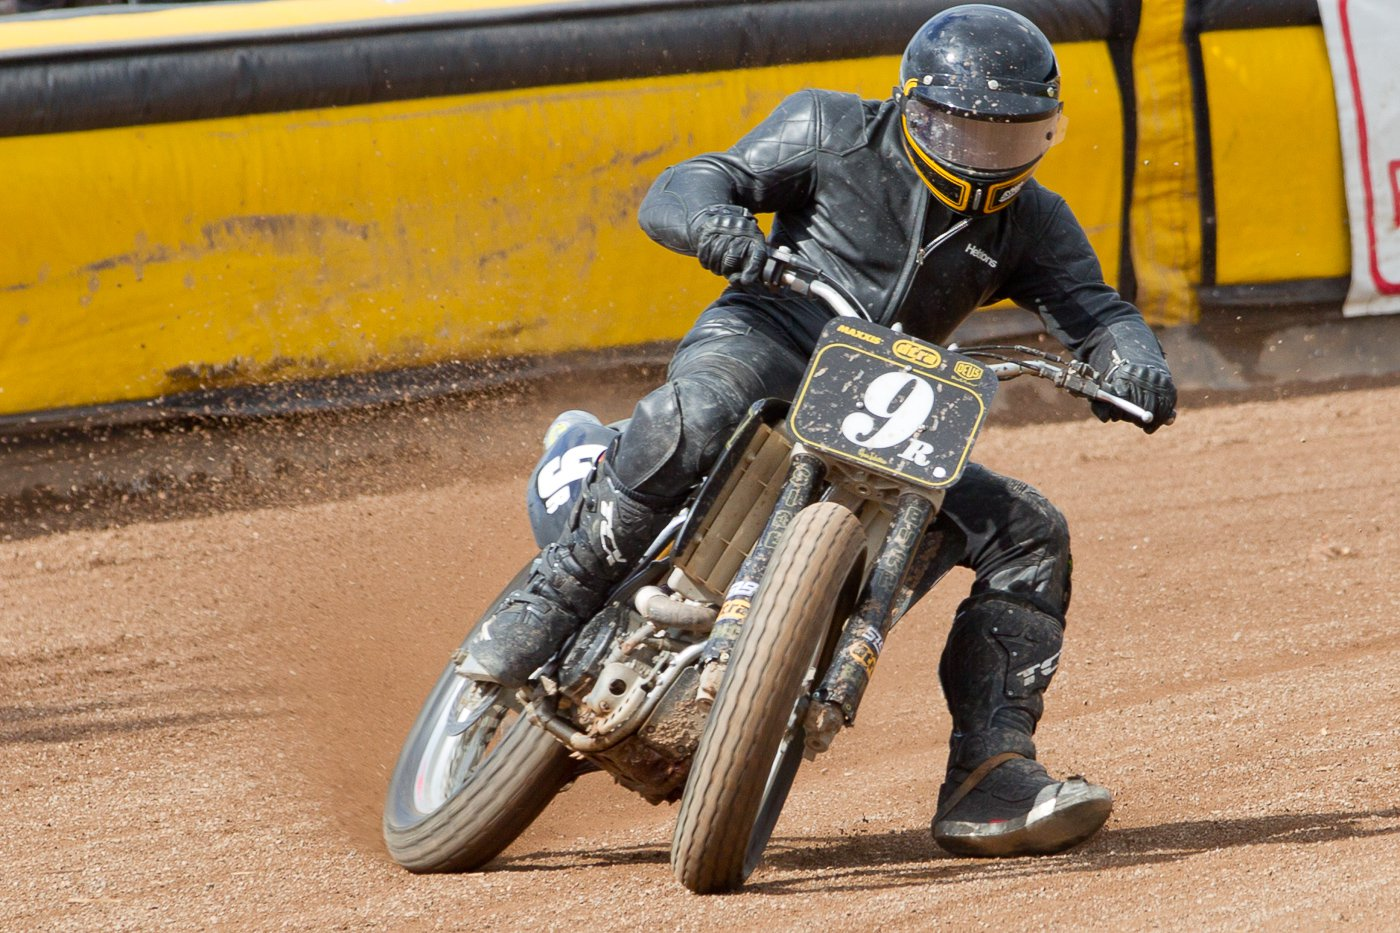helmet: (739, 5, 1081, 734)
